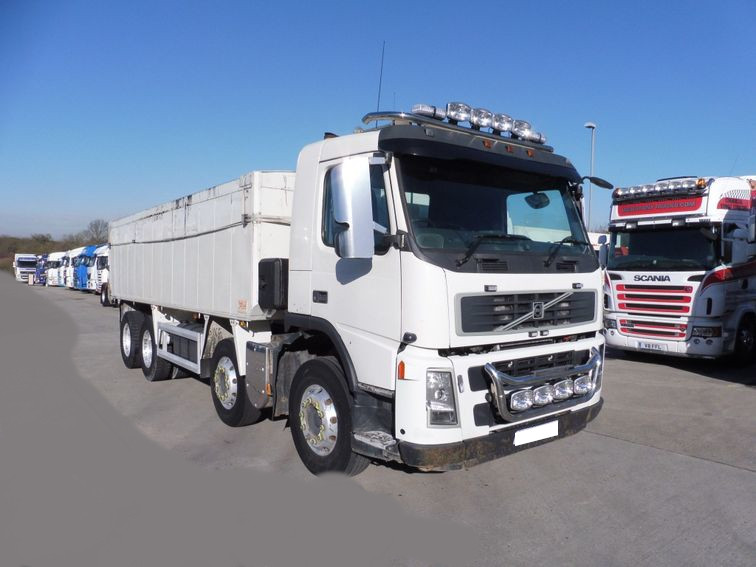Semi: (106, 102, 603, 475), (598, 175, 755, 362)
